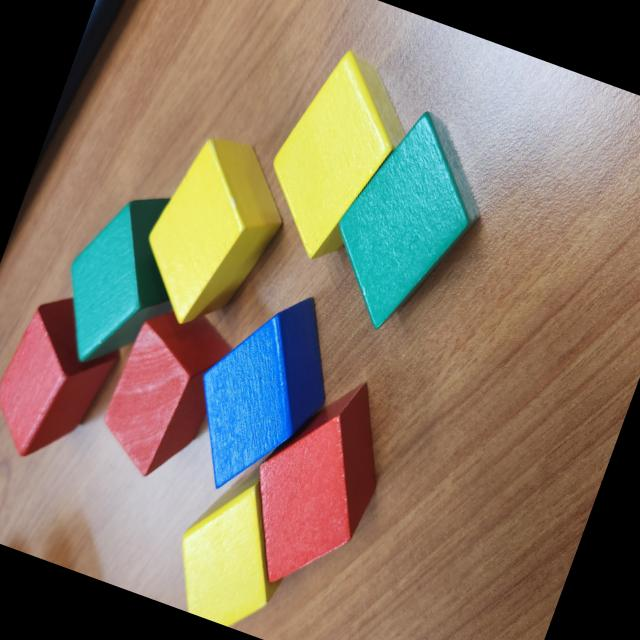blue: (166, 270, 358, 515)
green: (39, 173, 211, 390), (339, 113, 481, 328)
red: (222, 356, 411, 606), (88, 286, 244, 492), (0, 280, 134, 477)
yellow: (244, 39, 428, 278), (124, 126, 304, 346), (158, 446, 320, 640)
